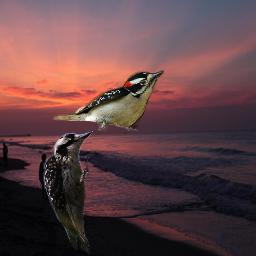Woodpecker: (39, 125, 98, 256), (53, 68, 164, 131)
